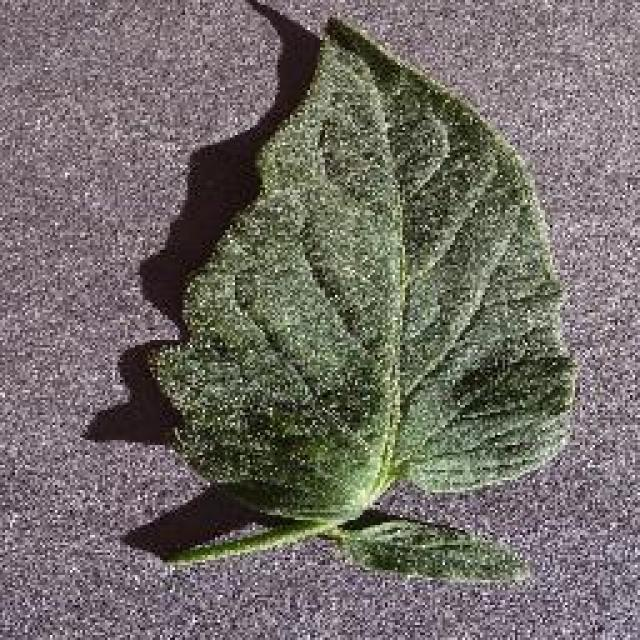Healthy: (128, 2, 590, 602)
